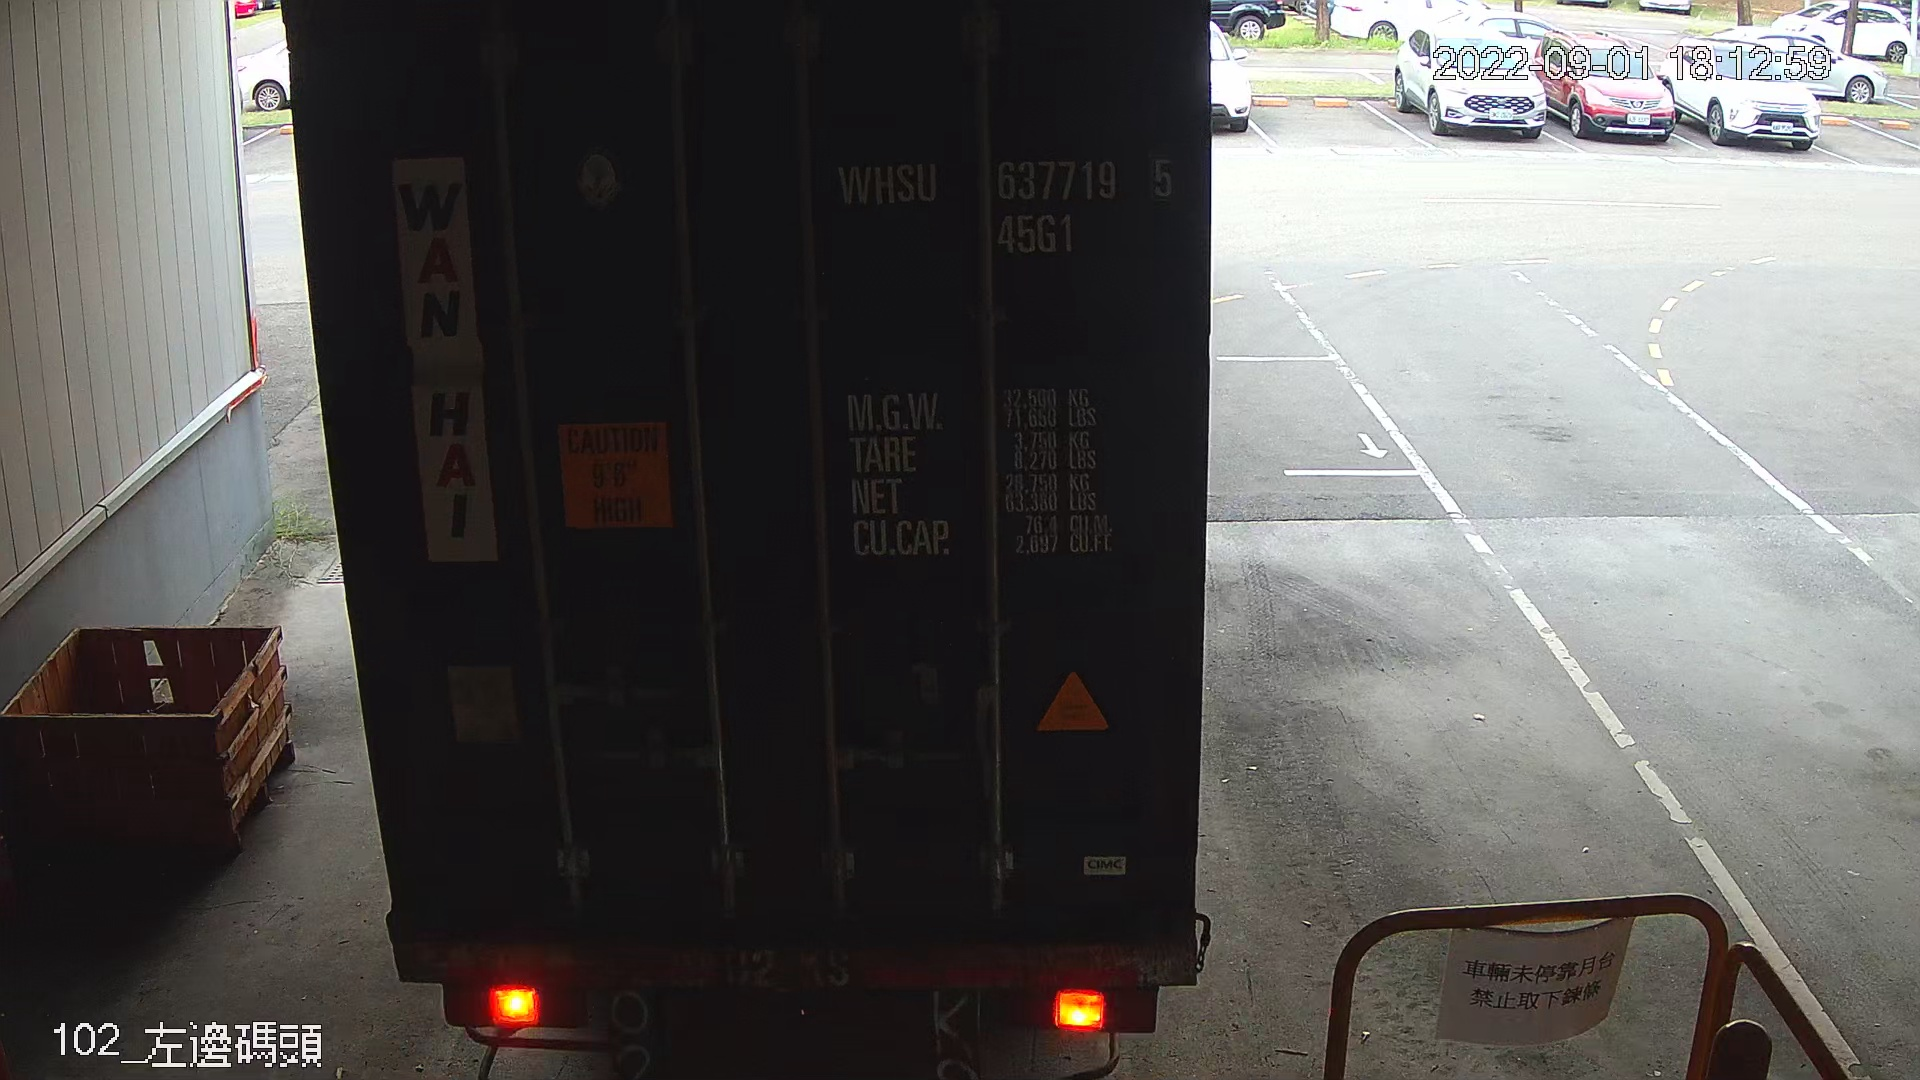container: (825, 145, 1185, 266)
